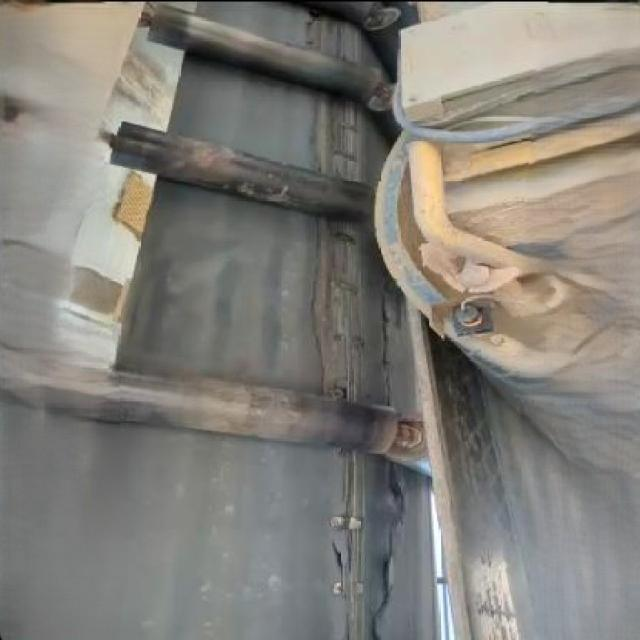Tear: (303, 229, 398, 406), (323, 446, 409, 640), (303, 91, 369, 182)
